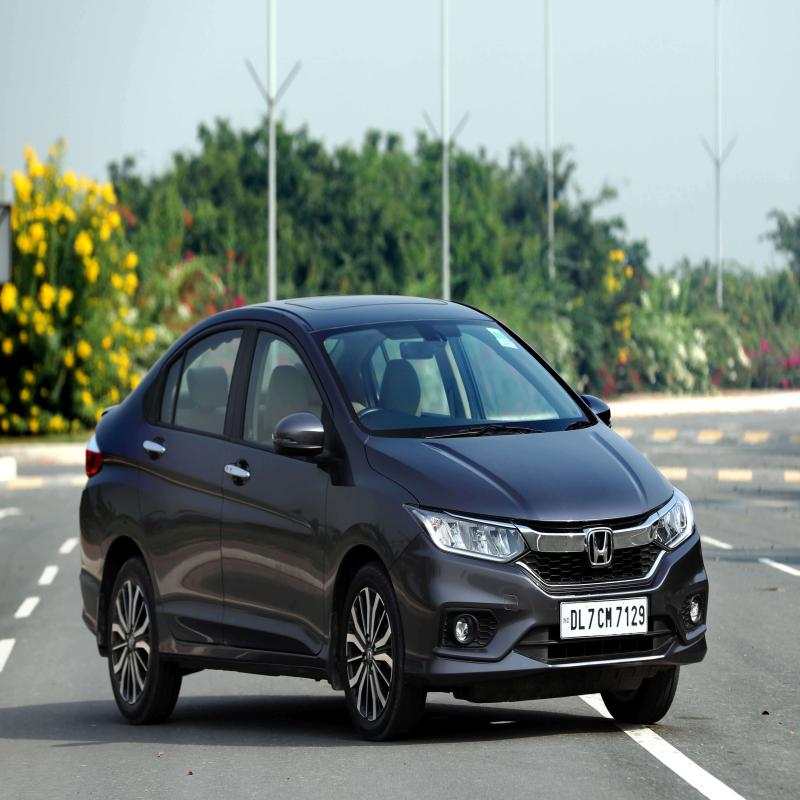car: (66, 267, 704, 743)
